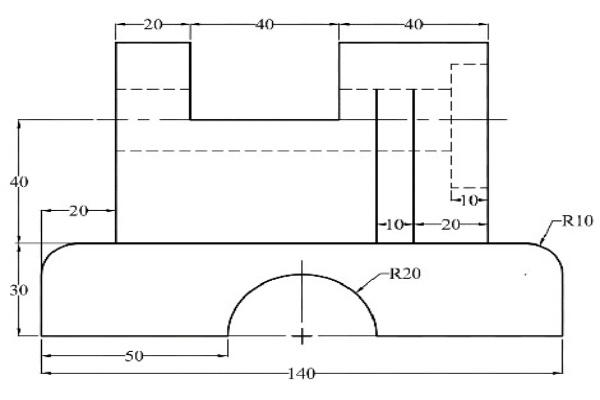dimensions: (285, 362, 321, 384), (65, 194, 94, 221), (117, 346, 148, 369), (137, 12, 169, 33), (562, 212, 598, 230), (251, 13, 278, 36), (387, 266, 423, 283), (401, 14, 426, 37), (7, 279, 32, 301), (439, 214, 463, 235), (382, 217, 407, 237), (456, 191, 484, 208), (8, 173, 31, 193)
